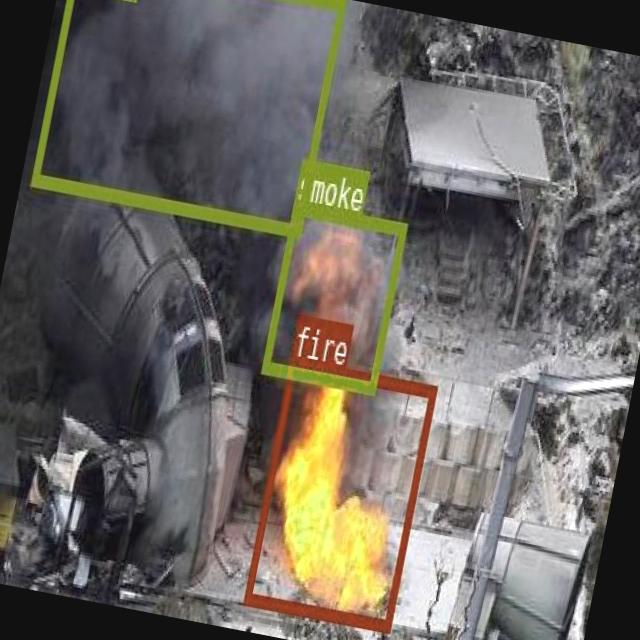fire: (242, 357, 436, 631)
smoke: (30, 0, 345, 233), (261, 199, 407, 391)
